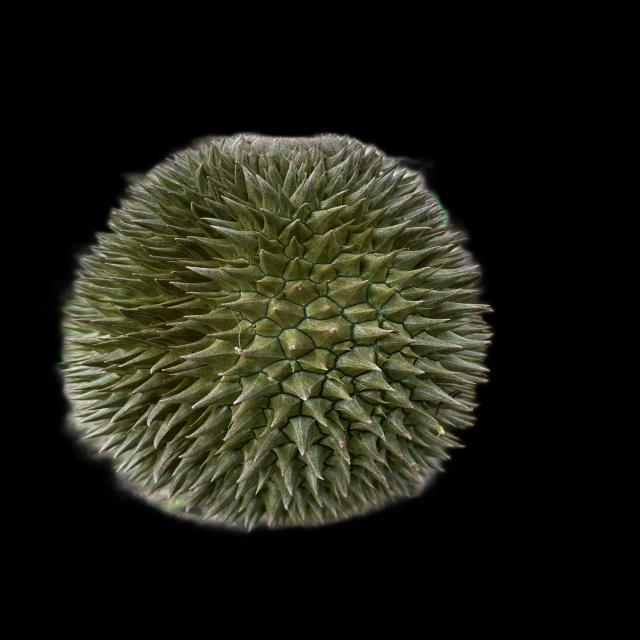immature: (50, 129, 500, 531)
